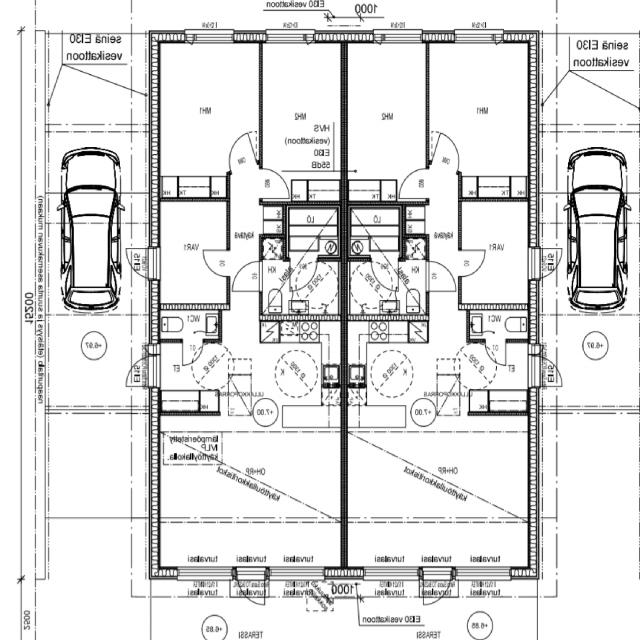door: (222, 132, 258, 174), (431, 134, 465, 174), (237, 567, 266, 611), (528, 356, 568, 387), (528, 248, 568, 279), (424, 567, 452, 611), (121, 248, 160, 279), (122, 356, 160, 387), (372, 256, 398, 292), (291, 255, 317, 291), (426, 261, 456, 292), (399, 168, 429, 198), (260, 168, 290, 198), (233, 262, 263, 290), (203, 249, 230, 276), (459, 250, 486, 276), (183, 339, 203, 365), (486, 339, 506, 364), (528, 344, 549, 355), (140, 345, 160, 354)
